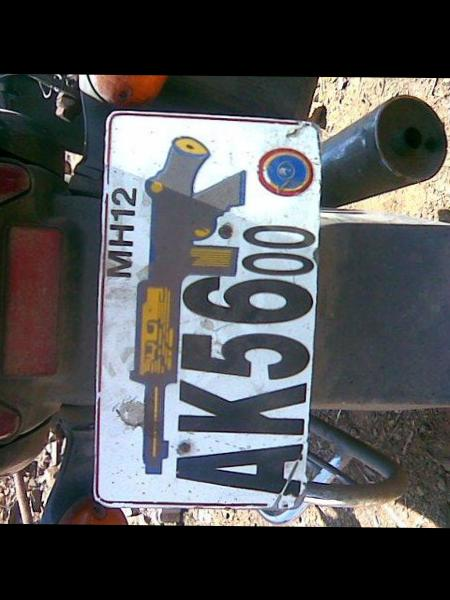plate: (93, 111, 325, 504)
